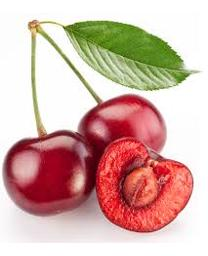cherry: (95, 136, 193, 233), (2, 129, 98, 217), (77, 94, 168, 174)
